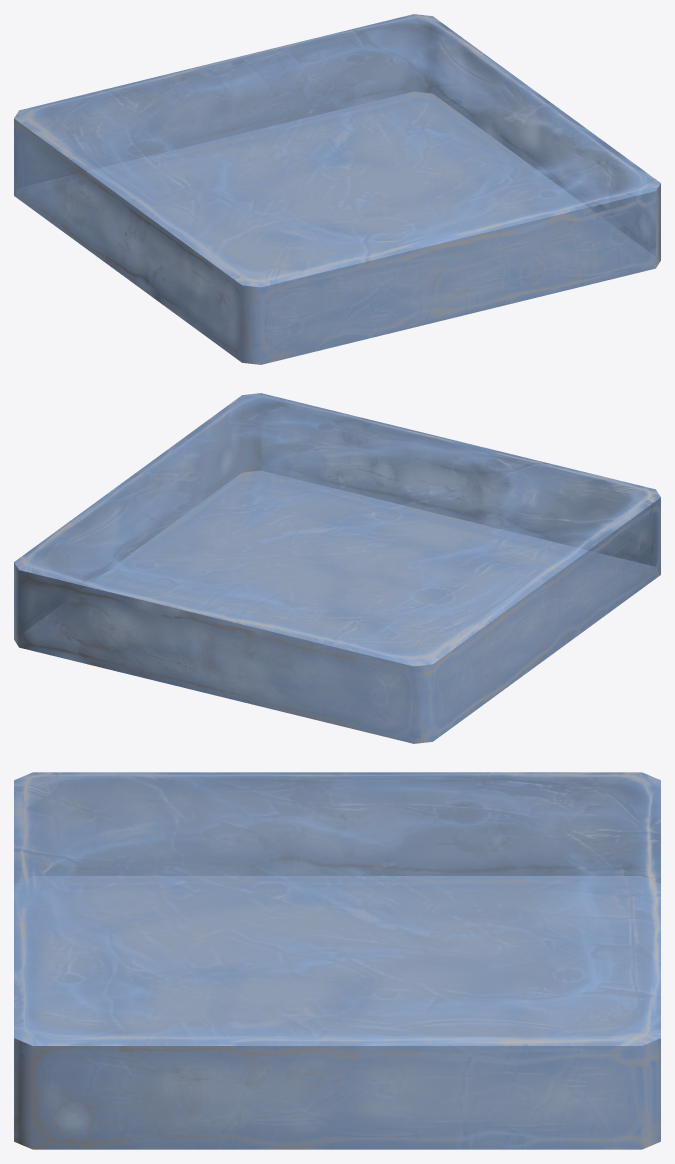
File: ice_platform.glb
3 views of the same model, one above another, from view 1: azimuth 30°, elevation 25°; view 2: azimuth 150°, elevation 25°; view 3: azimuth 270°, elevation 25° (orthographic). The views are drawn at different scales.
Visible parts, largest first — view 1: icePlatform_low, icePlatform_low.001; view 2: icePlatform_low, icePlatform_low.001; view 3: icePlatform_low, icePlatform_low.001.
Part boxes in pixels (x1=…): icePlatform_low: x1=14, y1=14, x2=660, y2=363; icePlatform_low.001: x1=14, y1=16, x2=660, y2=364; icePlatform_low: x1=14, y1=393, x2=660, y2=742; icePlatform_low.001: x1=14, y1=393, x2=660, y2=743; icePlatform_low: x1=14, y1=772, x2=660, y2=1149; icePlatform_low.001: x1=14, y1=772, x2=660, y2=1149.
Size of what is drawn, in the model's own units: 0.9965 by 0.1868 by 0.9965.
Materials: 1 (1 with a texture image).
